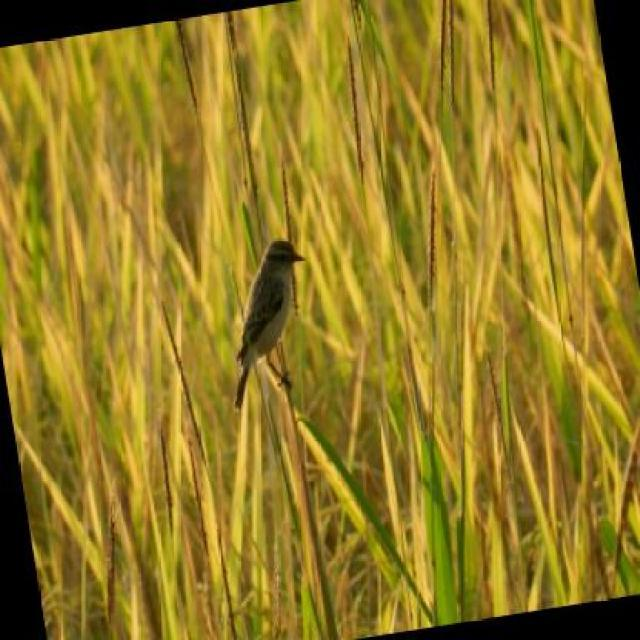Bird: (230, 234, 309, 415)
